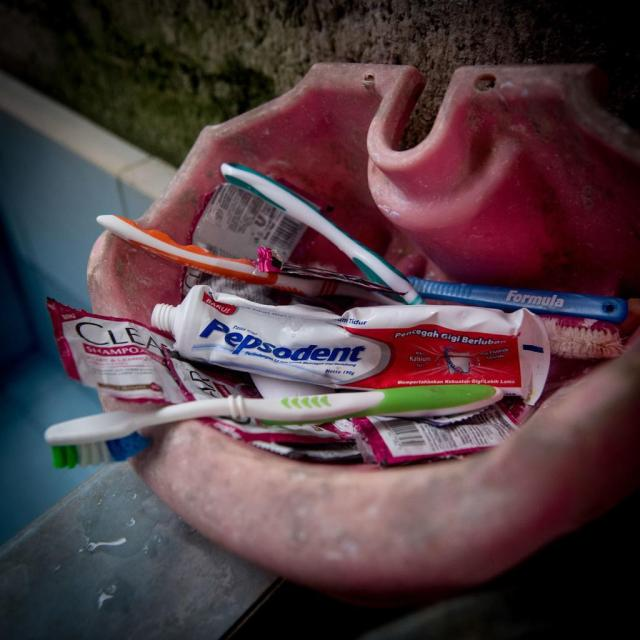Toothpaste: (140, 282, 560, 398)
